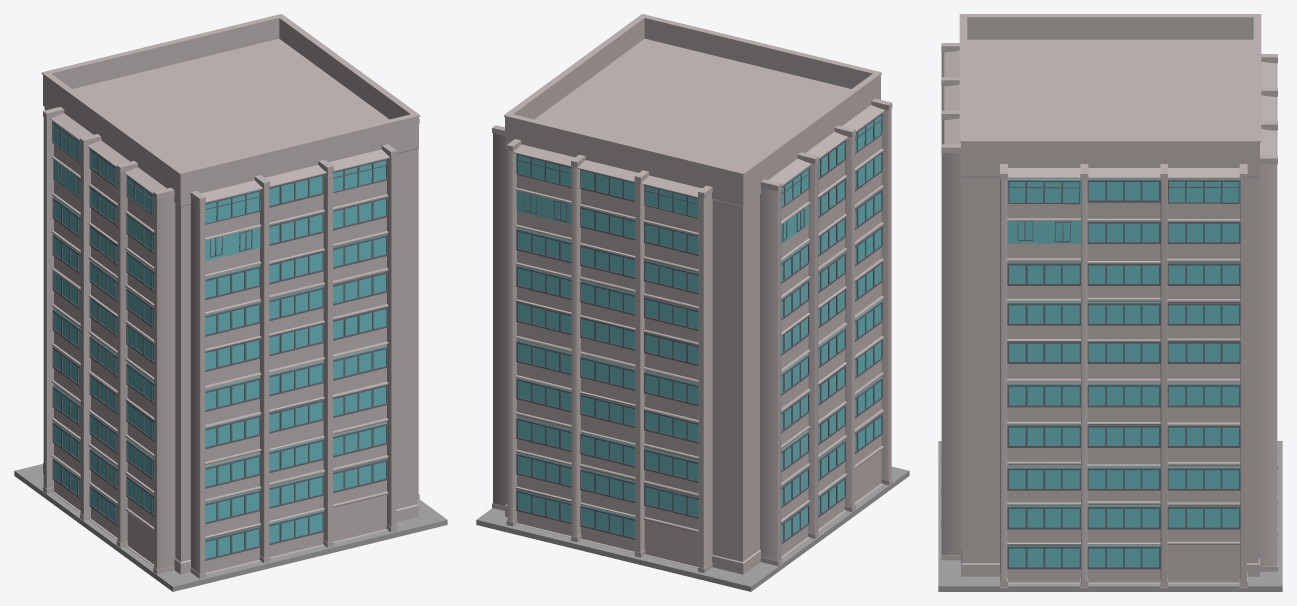
The model's file is building_1.fbx.
The picture shows the model from 3 angles, left to right: view 1: azimuth 30°, elevation 25°; view 2: azimuth 150°, elevation 25°; view 3: azimuth 270°, elevation 25°; orthographic projection. The views are drawn at different scales.
Parts seen in each view (by area): view 1: curve1; view 2: curve1; view 3: curve1.
Boxes of the visible parts, x1,y1,x2,y2 form: curve1: (14, 14, 447, 591); curve1: (476, 14, 909, 591); curve1: (938, 14, 1282, 591).
Bounding box in the file's own units: 82.53 × 82.29 × 116.
